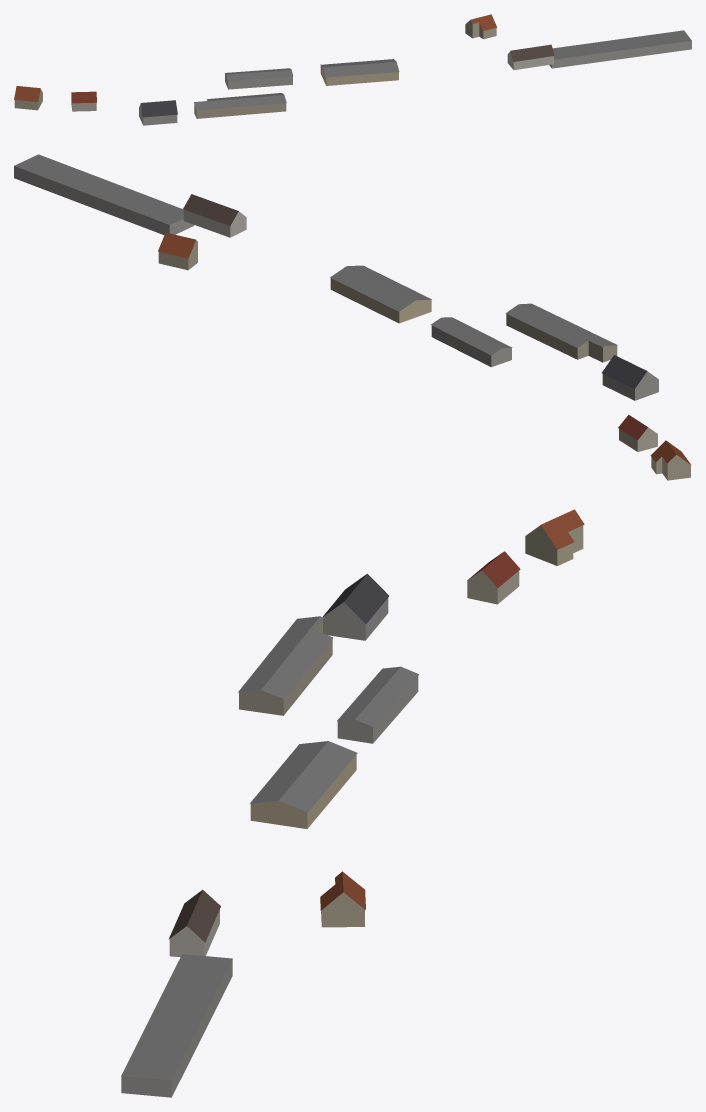
3 renders of one model, top to bottom at view 1: azimuth 30°, elevation 25°; view 2: azimuth 150°, elevation 25°; view 3: azimuth 270°, elevation 25°, orthographic. The views are drawn at different scales.
Parts seen in each view (by area): view 1: buildings; view 2: buildings; view 3: buildings.
Boxes of the visible parts, bbox=[...] form: buildings: bbox=[14, 14, 691, 125]; buildings: bbox=[14, 154, 691, 480]; buildings: bbox=[121, 509, 584, 1097].
Size of the model in its own units: 415 by 21.13 by 145.
